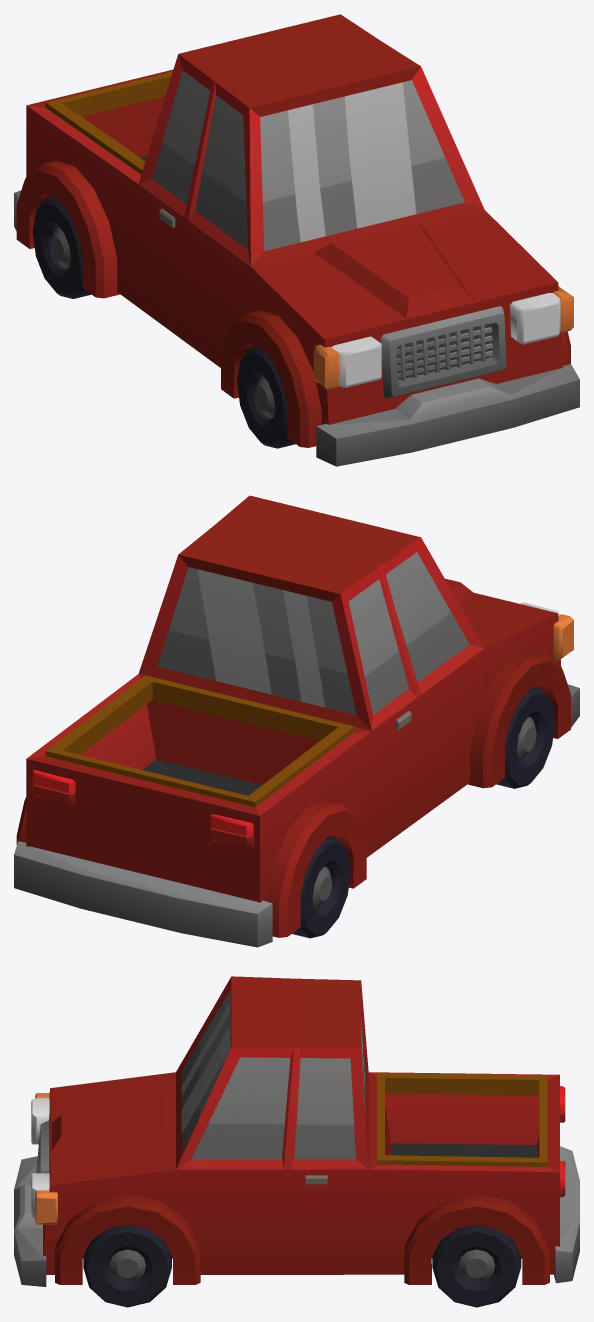
Rendered from PickUp_9.glb.
3 renders of one model, top to bottom at view 1: azimuth 30°, elevation 25°; view 2: azimuth 150°, elevation 25°; view 3: azimuth 270°, elevation 25°, orthographic. The views are drawn at different scales.
Parts seen in each view (by area): view 1: PickUp_9, BWhel_BR, BWhel_FR; view 2: PickUp_9, BWhel_BR, BWhel_FR; view 3: PickUp_9, BWhel_BL, BWhel_FL.
Boxes of the visible parts, box(x1,y1,x2,y2) form: PickUp_9: box(14, 14, 579, 466); BWhel_BR: box(32, 197, 91, 298); BWhel_FR: box(237, 346, 295, 448); PickUp_9: box(14, 495, 579, 947); BWhel_BR: box(292, 836, 350, 938); BWhel_FR: box(496, 687, 554, 788); PickUp_9: box(14, 976, 579, 1286); BWhel_BL: box(432, 1225, 521, 1307); BWhel_FL: box(83, 1225, 171, 1307).
Size of the model in its own units: 1.09 by 1.08 by 2.3.
6 materials, 6 textured.
